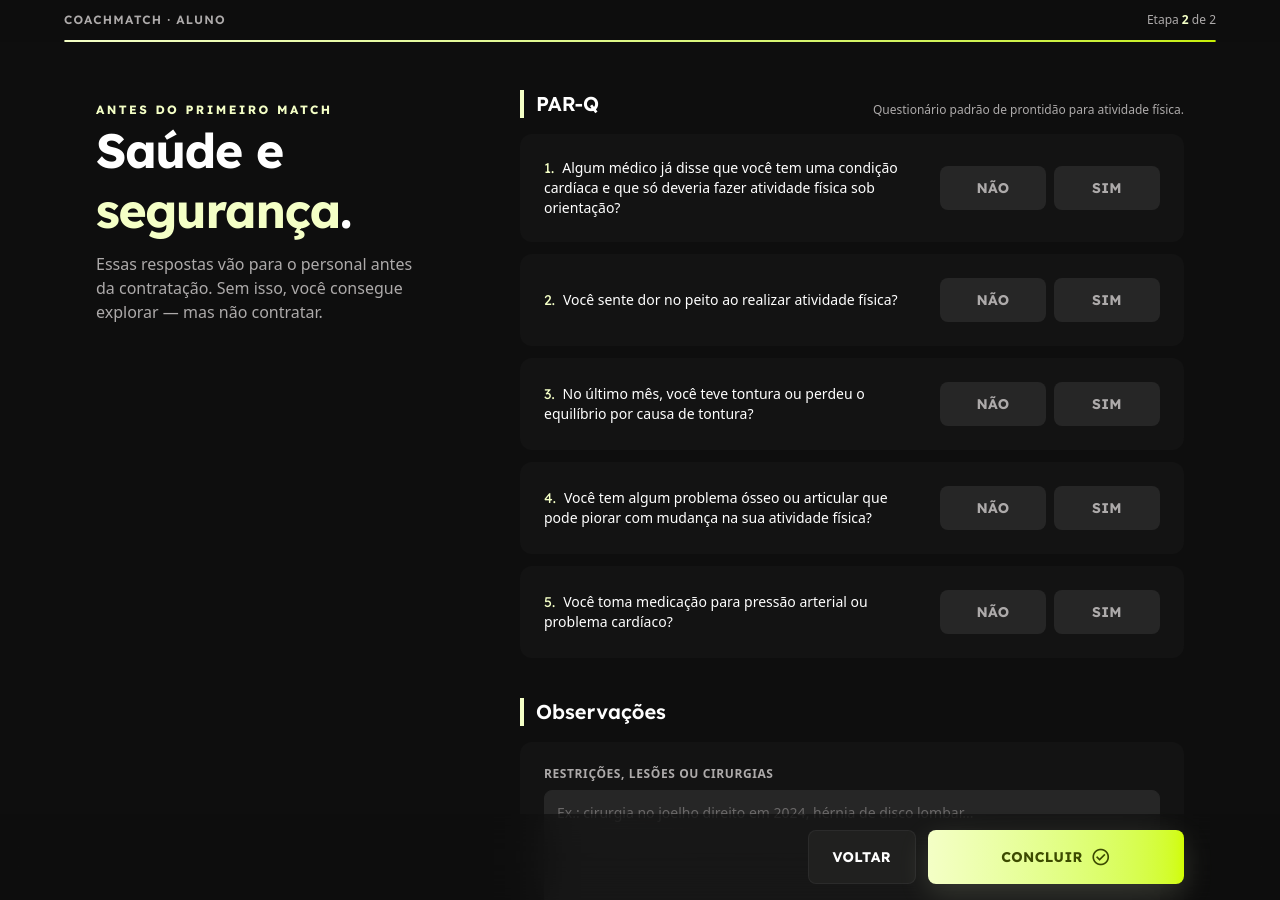
ClientHealthFormPage › mostra aviso quando alguma resposta do PAR-Q é sim
The width and height of the screenshot is (1280, 900).
Click the 1st button "Sim" at (1107, 188), box [1054,166,1160,210]
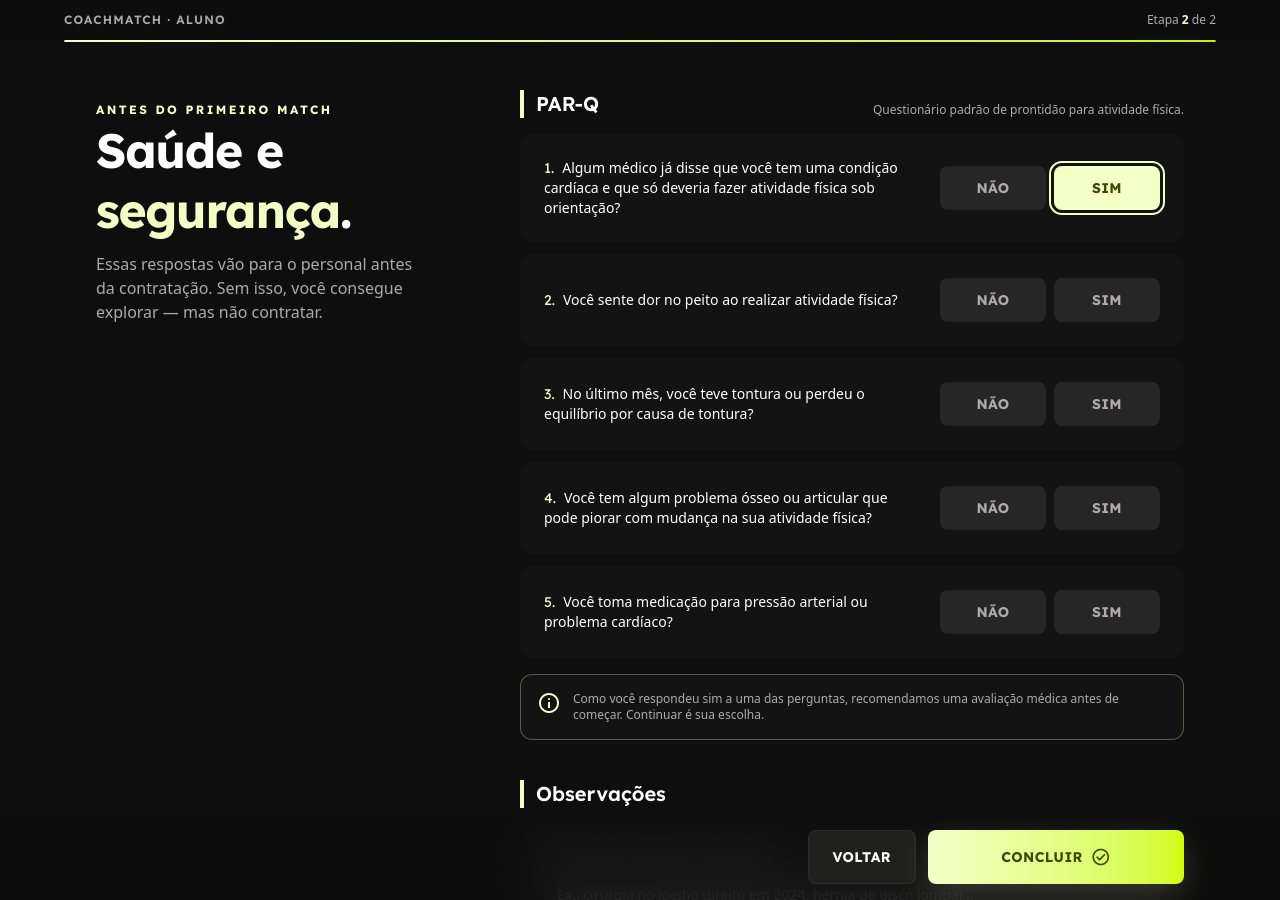
Now the text "recomendamos uma avaliação médica antes de começar" is shown, box [573,690,1119,723]
